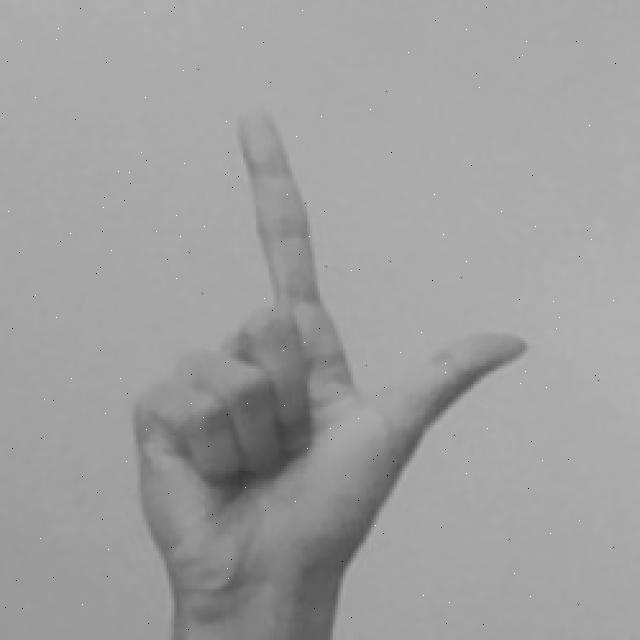L: (126, 92, 541, 640)
